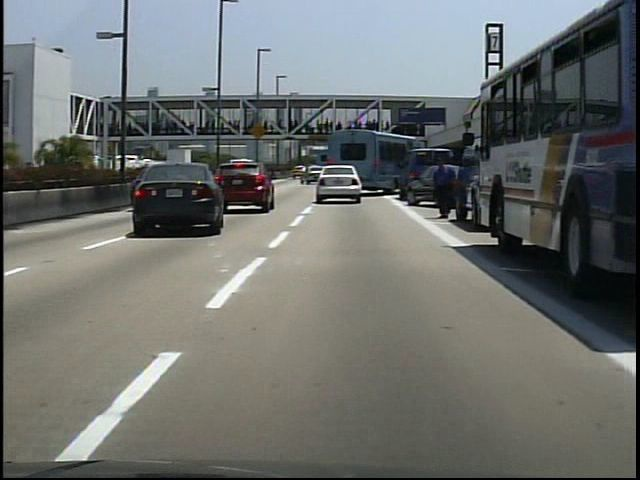person: (429, 157, 457, 224)
